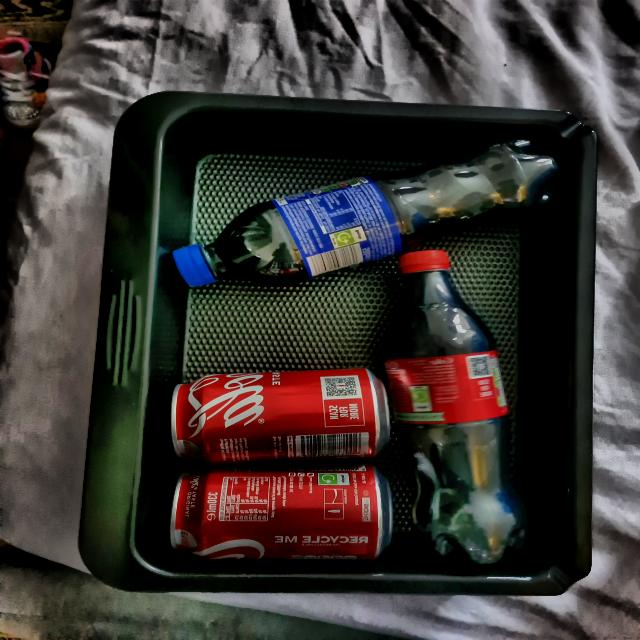coke-bottle: (405, 238, 547, 558)
coke-can: (170, 356, 384, 468), (166, 456, 384, 558)
pepsi-bottle: (149, 140, 564, 300)
